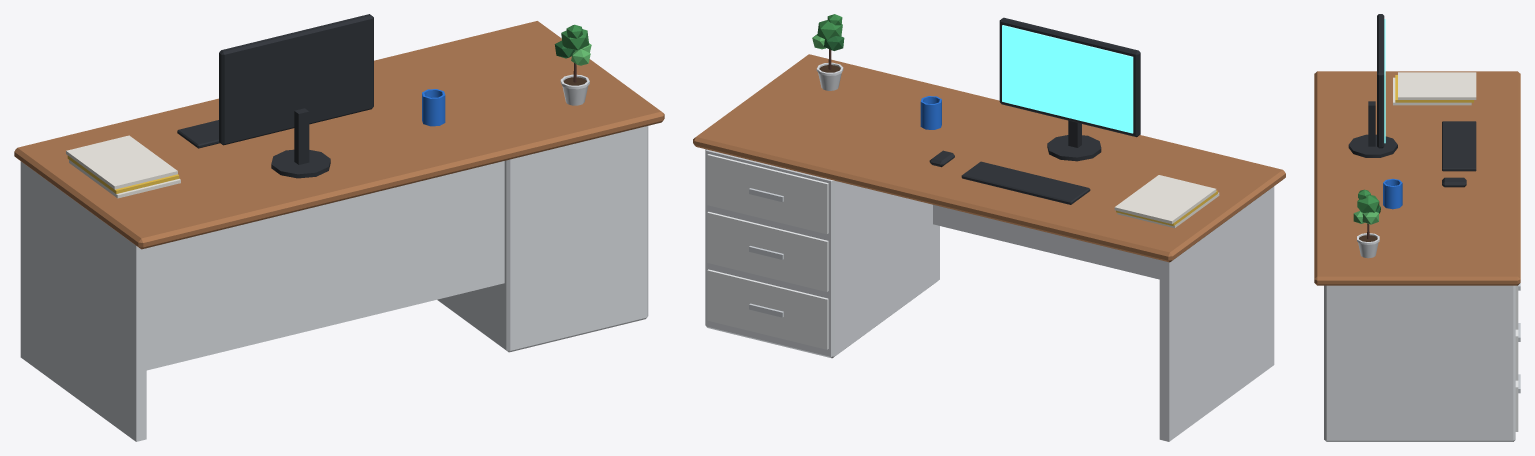
The model's file is office_desk.glb.
The picture shows the model from 3 angles, left to right: view 1: azimuth 30°, elevation 25°; view 2: azimuth 150°, elevation 25°; view 3: azimuth 270°, elevation 25°; orthographic projection. The views are drawn at different scales.
Parts seen in each view (by area): view 1: office_desk; view 2: office_desk; view 3: office_desk.
Boxes of the visible parts, x1,y1,x2,y2 form: office_desk: (14,14,664,441); office_desk: (693,14,1285,441); office_desk: (1314,14,1520,441).
Bounding box in the file's own units: 2 × 1.23 × 0.84.
